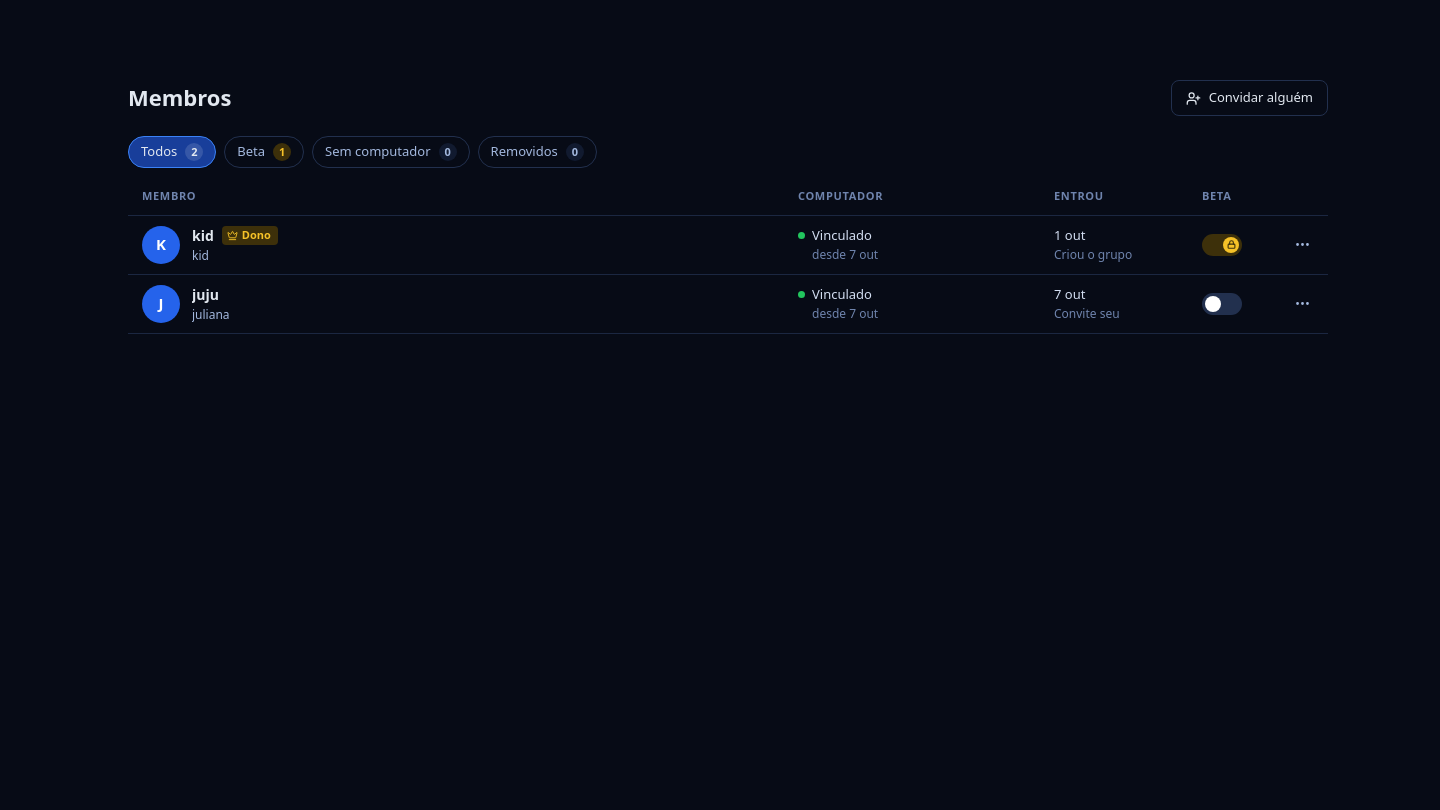
ações do membro › remove depois de confirmar
The width and height of the screenshot is (1440, 810).
Later steps or results of the test are not shown.
Click the button named "Mais ações para juju": (1302, 304) [1286,288,1318,320]
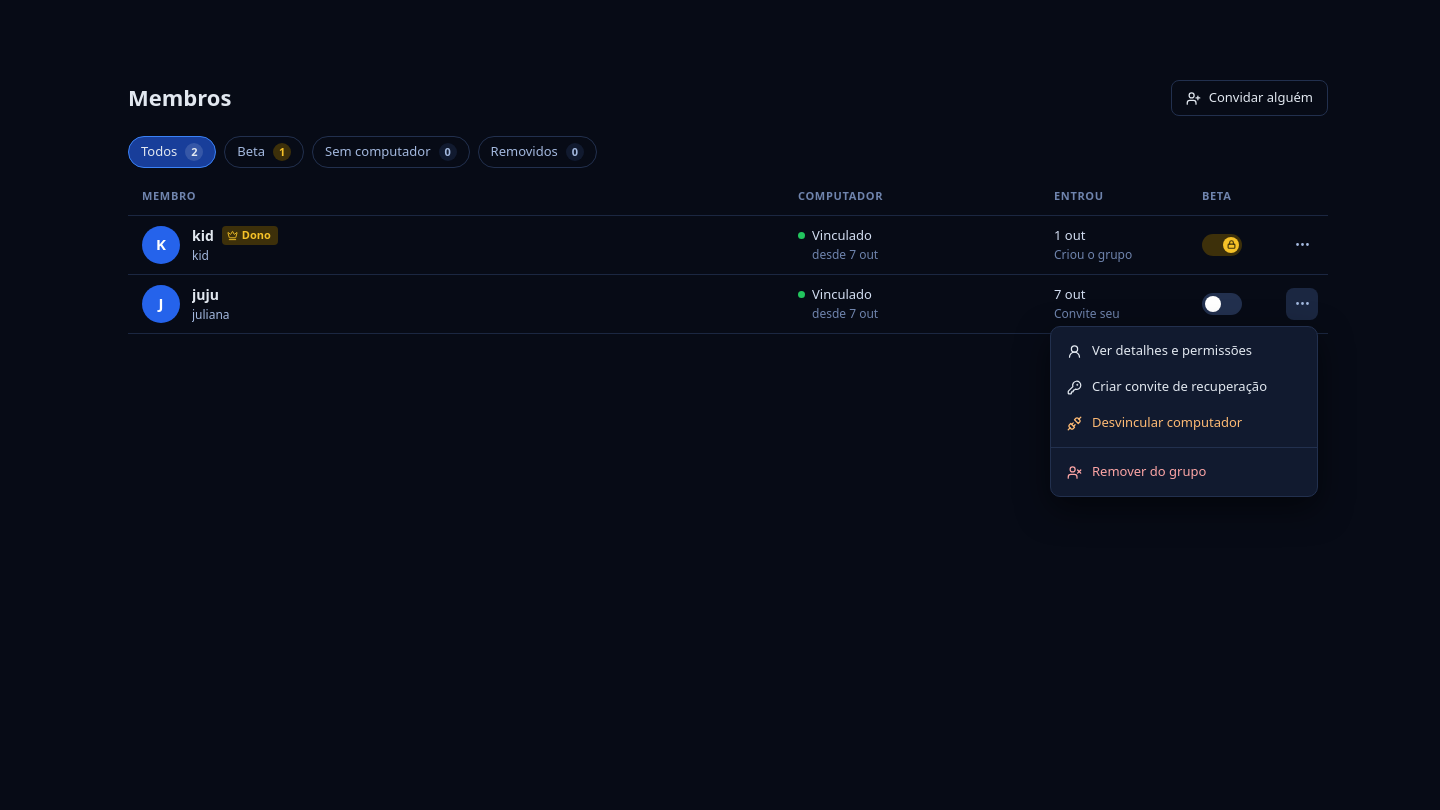
Click the menu item "Remover do grupo": (1137, 471) [1067,462,1206,480]
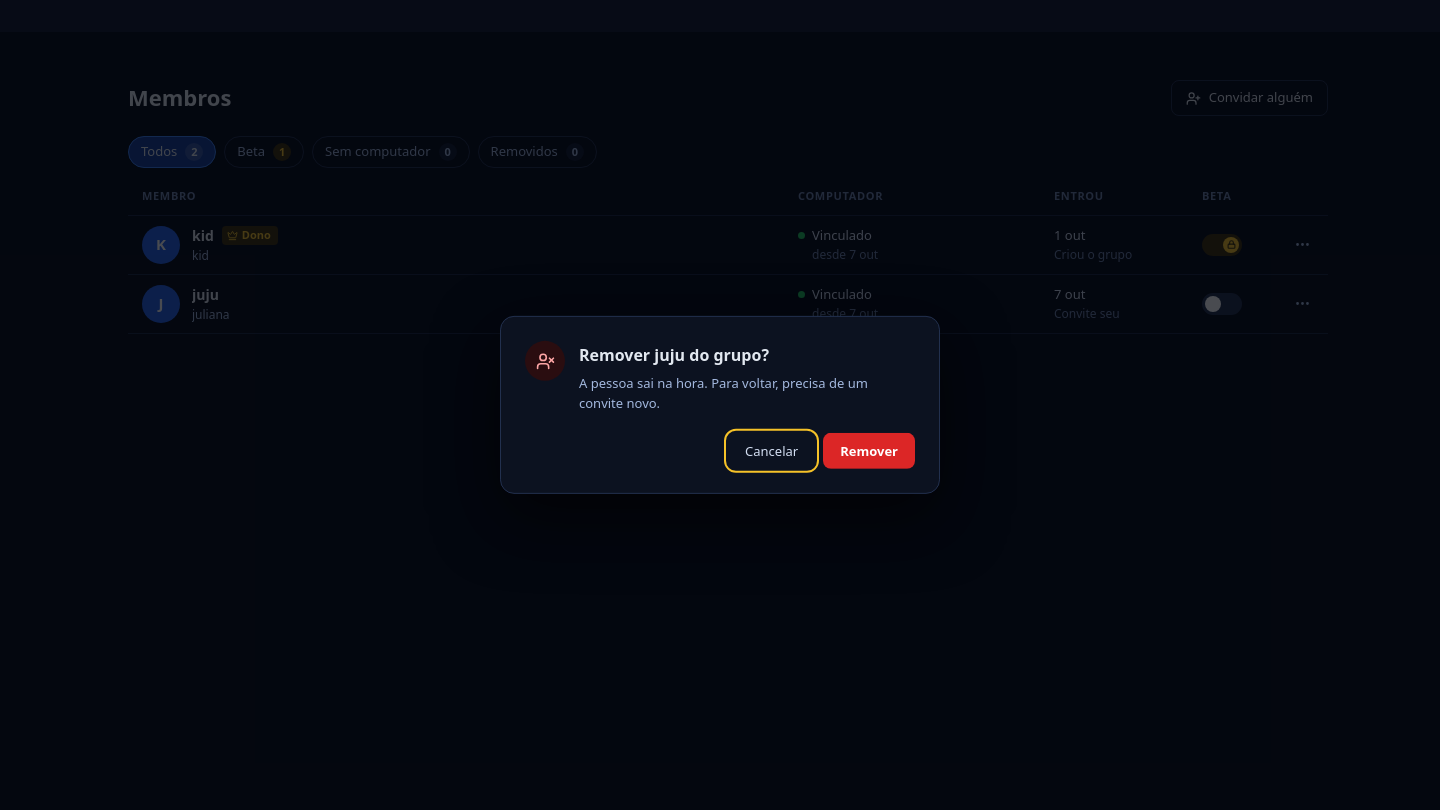
Result: the text "Para voltar, precisa de um convite novo" is shown at [579,374,868,412]
